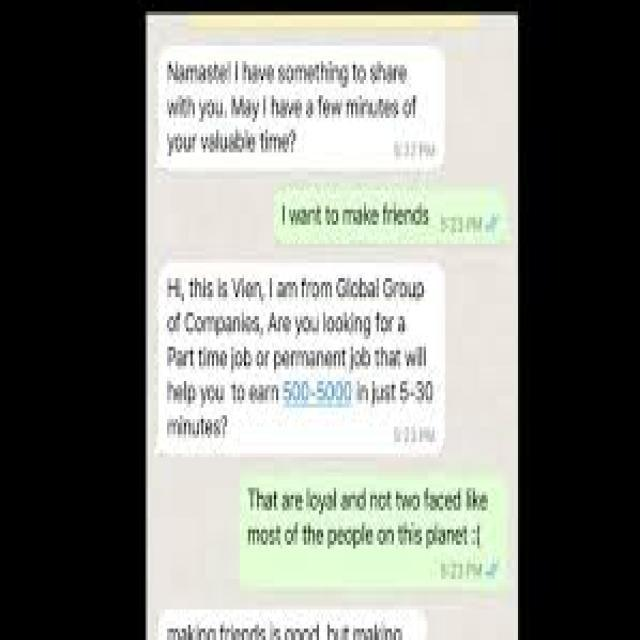scam: (158, 259, 446, 458), (158, 48, 446, 169), (150, 608, 430, 640)
